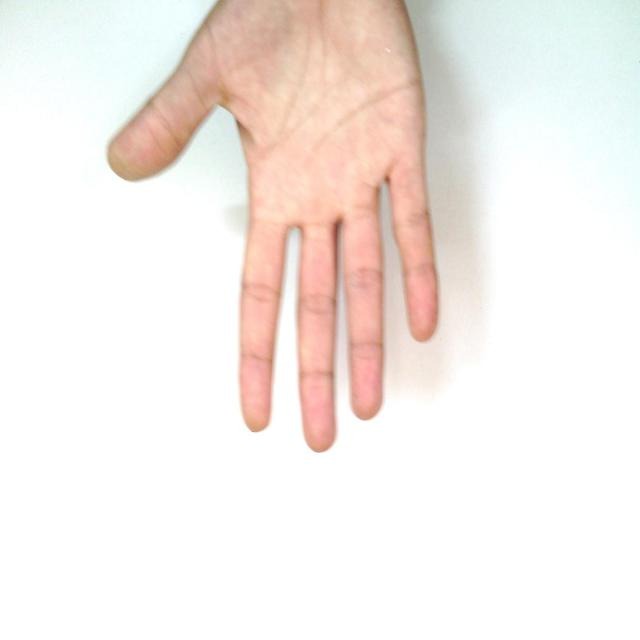others: (84, 1, 540, 462)
